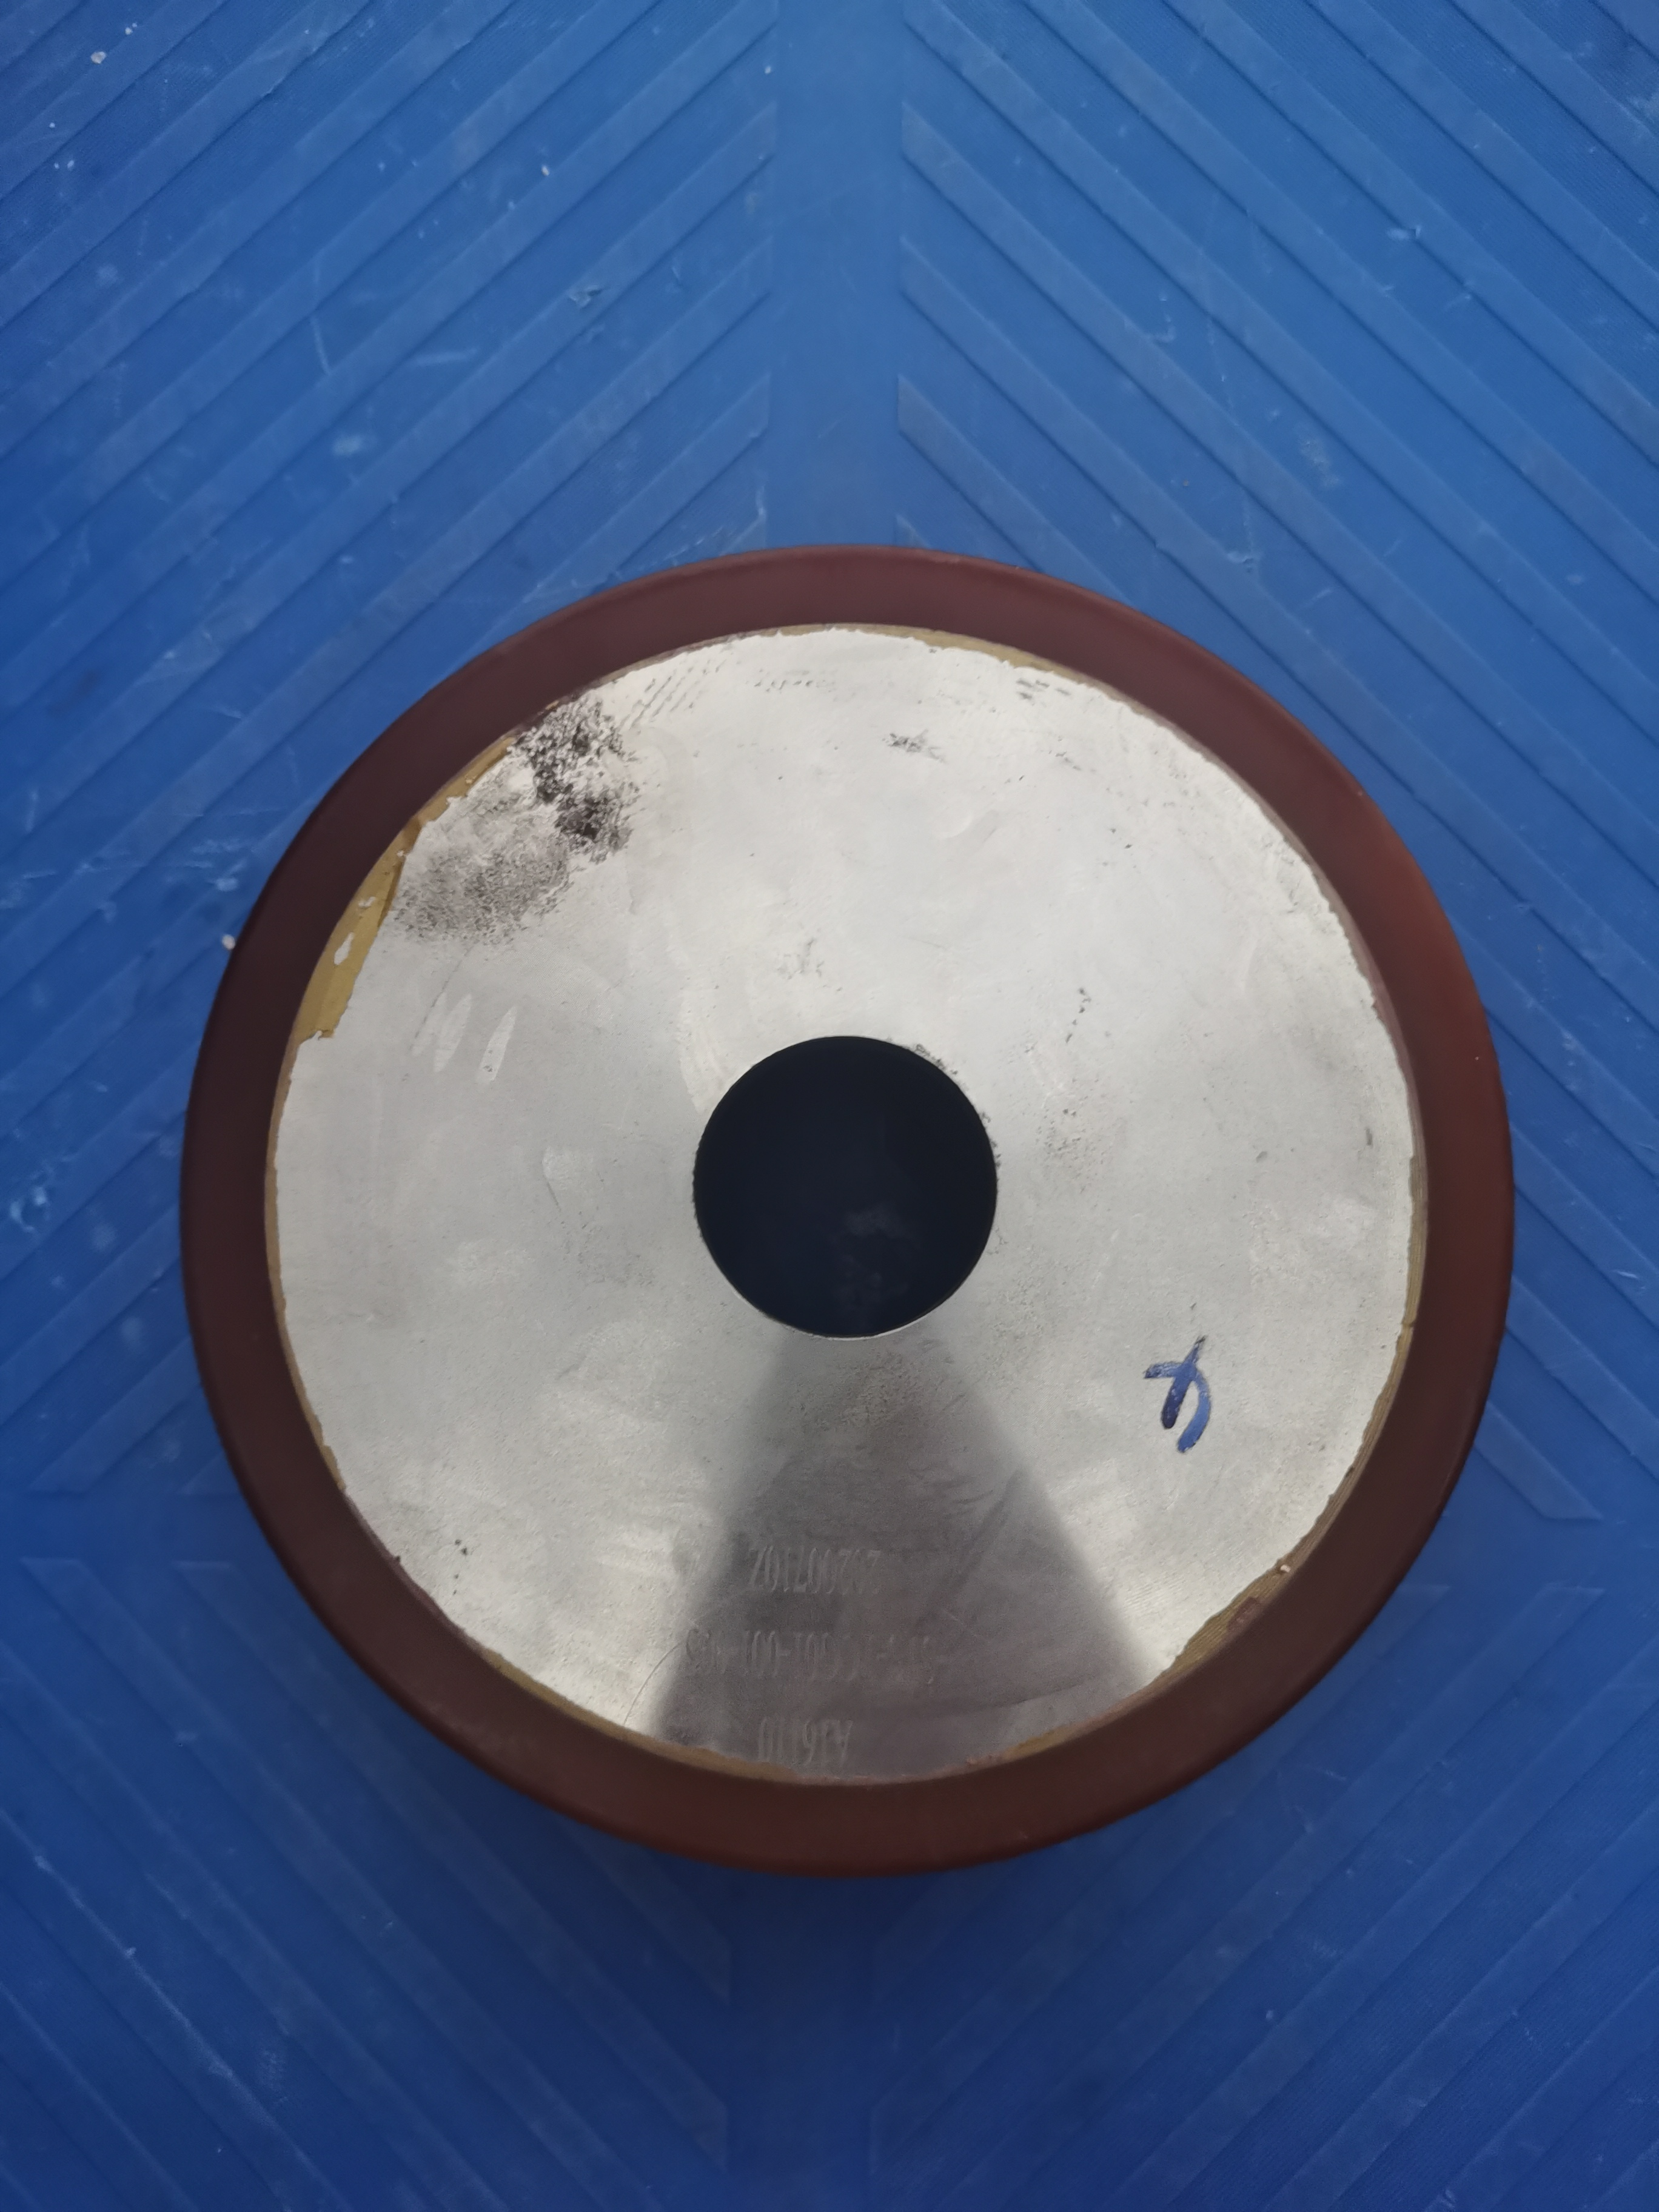good_wheel: (185, 491, 1549, 1897)
